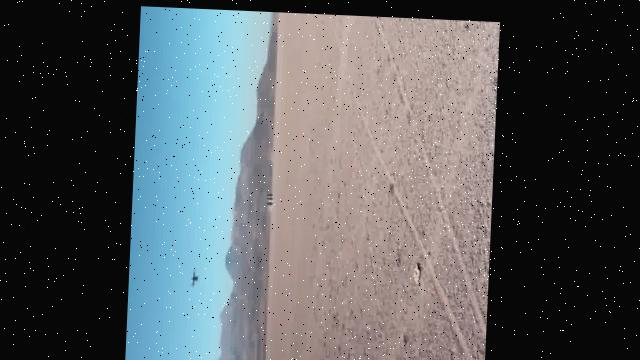drone: (188, 266, 201, 286)
